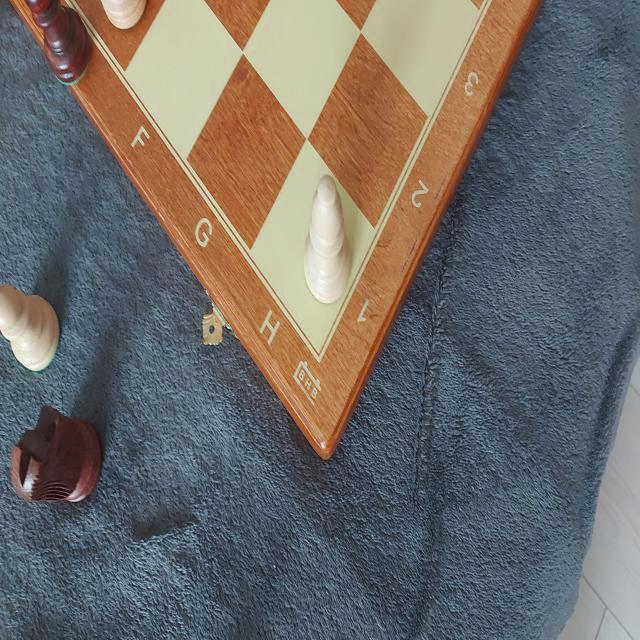chess-table-corners: (309, 338, 331, 368)
